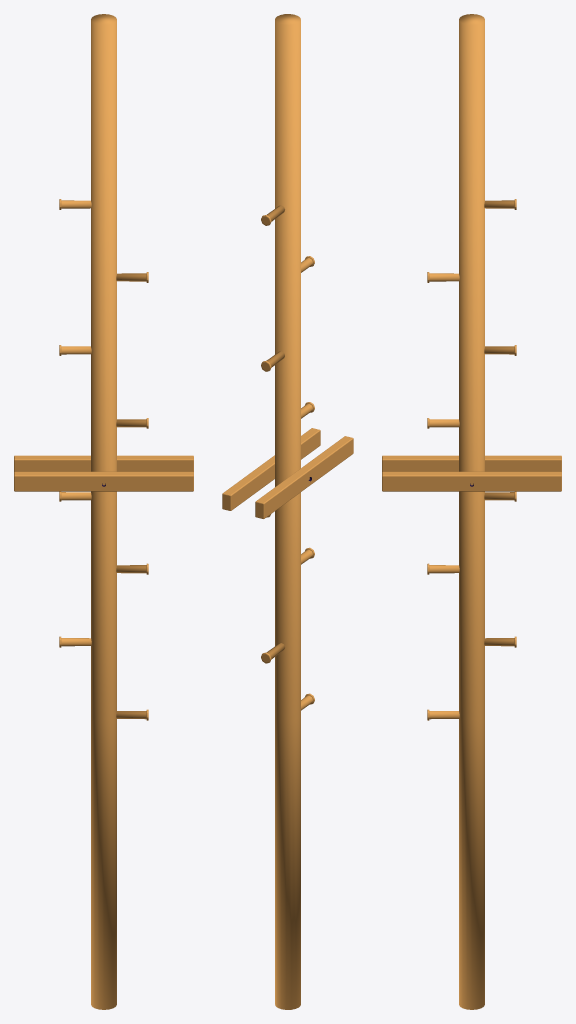
3 renders of one model, left to right at view 1: azimuth 90°, elevation 25°; view 2: azimuth 150°, elevation 25°; view 3: azimuth 270°, elevation 25°, orthographic.
Parts seen in each view (by area): view 1: Circle; view 2: Circle; view 3: Circle.
Boxes of the visible parts, box(x1,y1,x2,y2) form: Circle: box(14, 14, 193, 1009); Circle: box(222, 14, 353, 1009); Circle: box(382, 14, 561, 1009).
Size of the model in its own units: 31.98 by 650 by 108.
